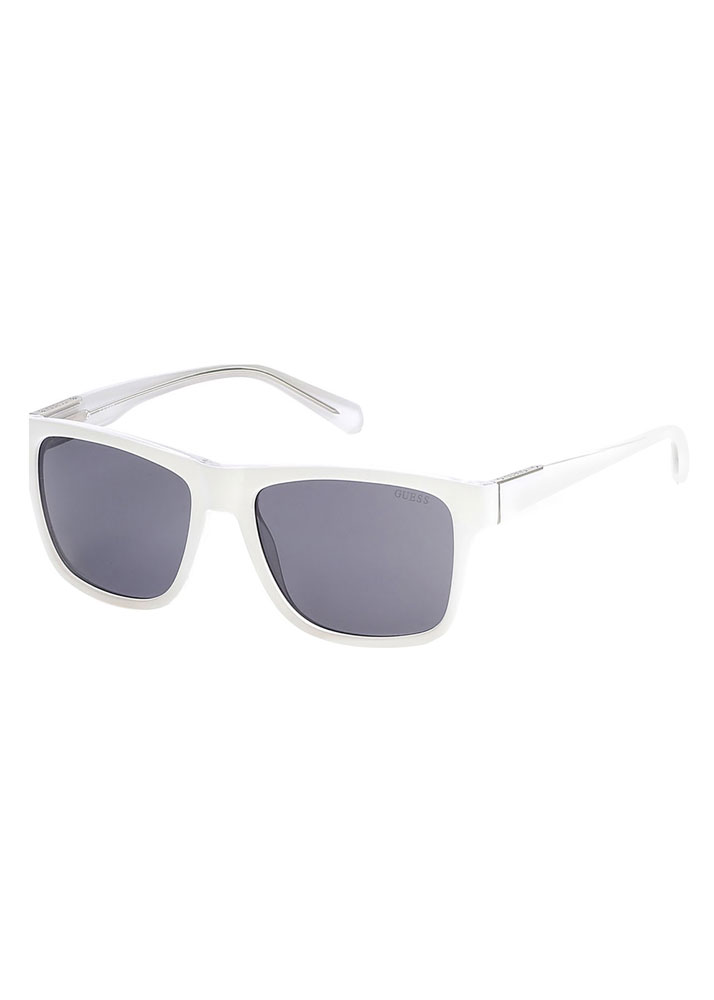Guess: (388, 483, 437, 511)
